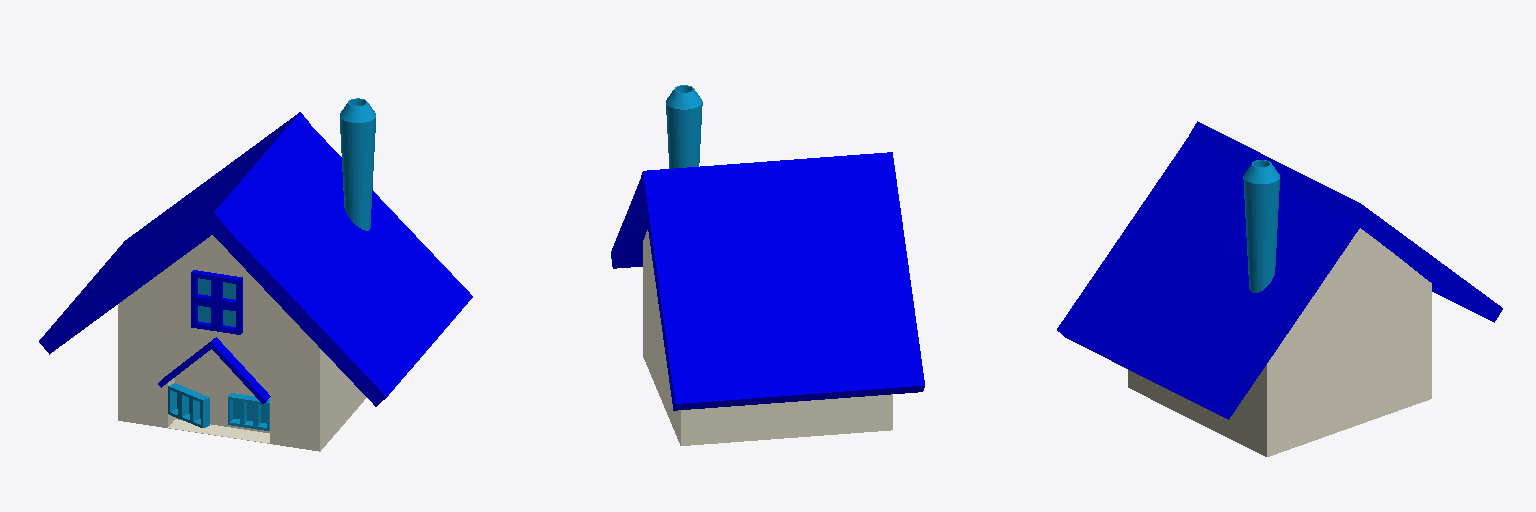
The model's file is house.obj.
The picture shows the model from 3 angles: view 1: azimuth 30°, elevation 25°; view 2: azimuth 150°, elevation 25°; view 3: azimuth 270°, elevation 25°; orthographic projection.
Size of the model in its own units: 75.08 by 52.62 by 77.55.